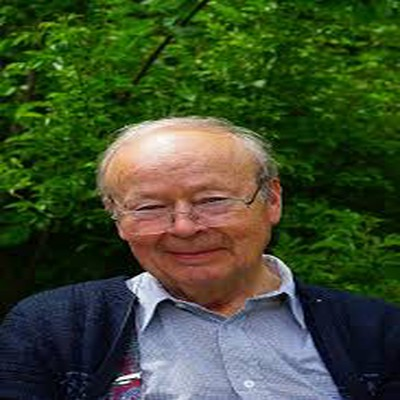eywear: (118, 168, 270, 238)
